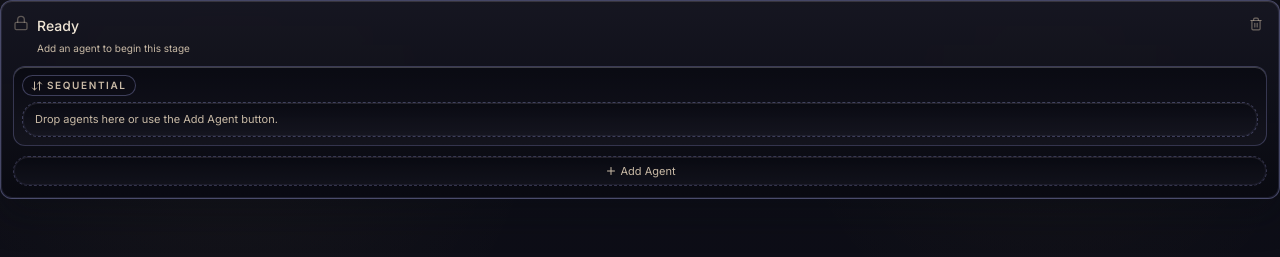
Test case: StageCard › shows a loading state while available agents are being fetched
The image size is (1280, 257).
Click the button "Add Agent".
click(640, 171)  # box [13, 156, 1267, 186]
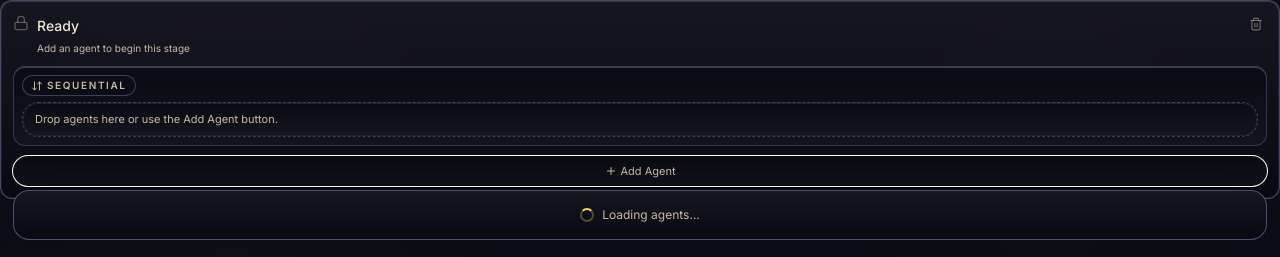
Check: the text "Loading agents..." is shown, box [580, 207, 700, 222]
